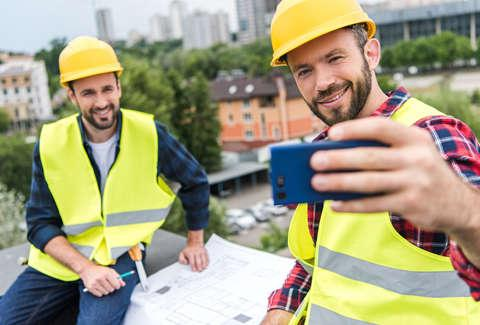helmet: (262, 1, 375, 66), (59, 36, 124, 85)
